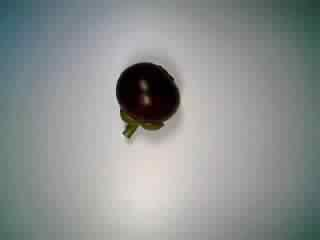mangosteen: (106, 57, 186, 141)
